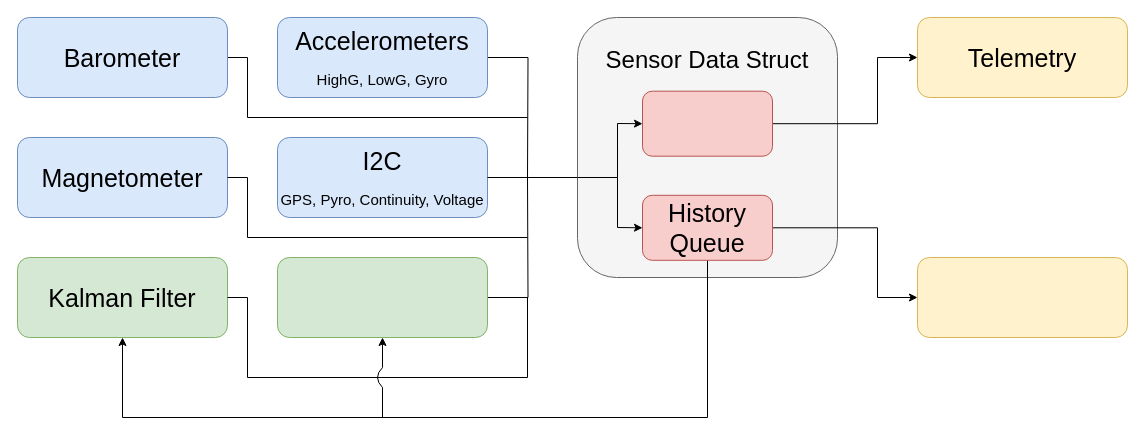
Some shapes in this 1145 by 443 pixel diagram are drawn without their labels. Each missing label, with the centre of its shape:
Current Snapshot: the point at 707,123
Finite State Machine: the point at 382,297
Logger SD Card, EMMC: the point at 1022,297
